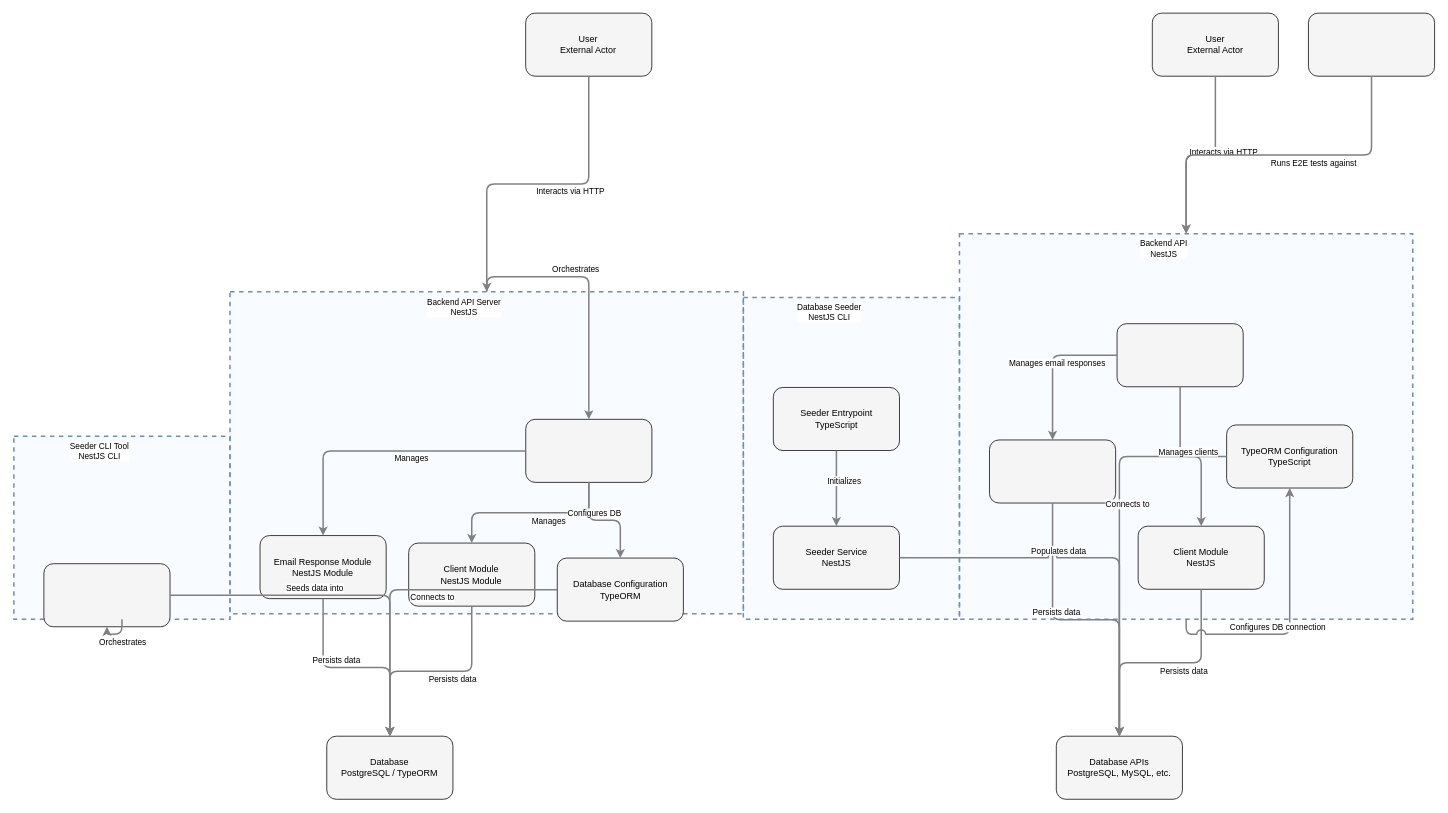
Image size: 1448x813. Some labels were removed from this diagram. The shapes that lost their labels are listed below. From the top down, each one's centre as x and y in pixels, then its label:
At [1371,44]: "Testing Framework Jest, Supertest".
At [1179,355]: "Application Core NestJS".
At [588,450]: "Application Core NestJS Module".
At [1052,471]: "Email Response Module NestJS".
At [106,595]: "Seeder Module NestJS Module".
